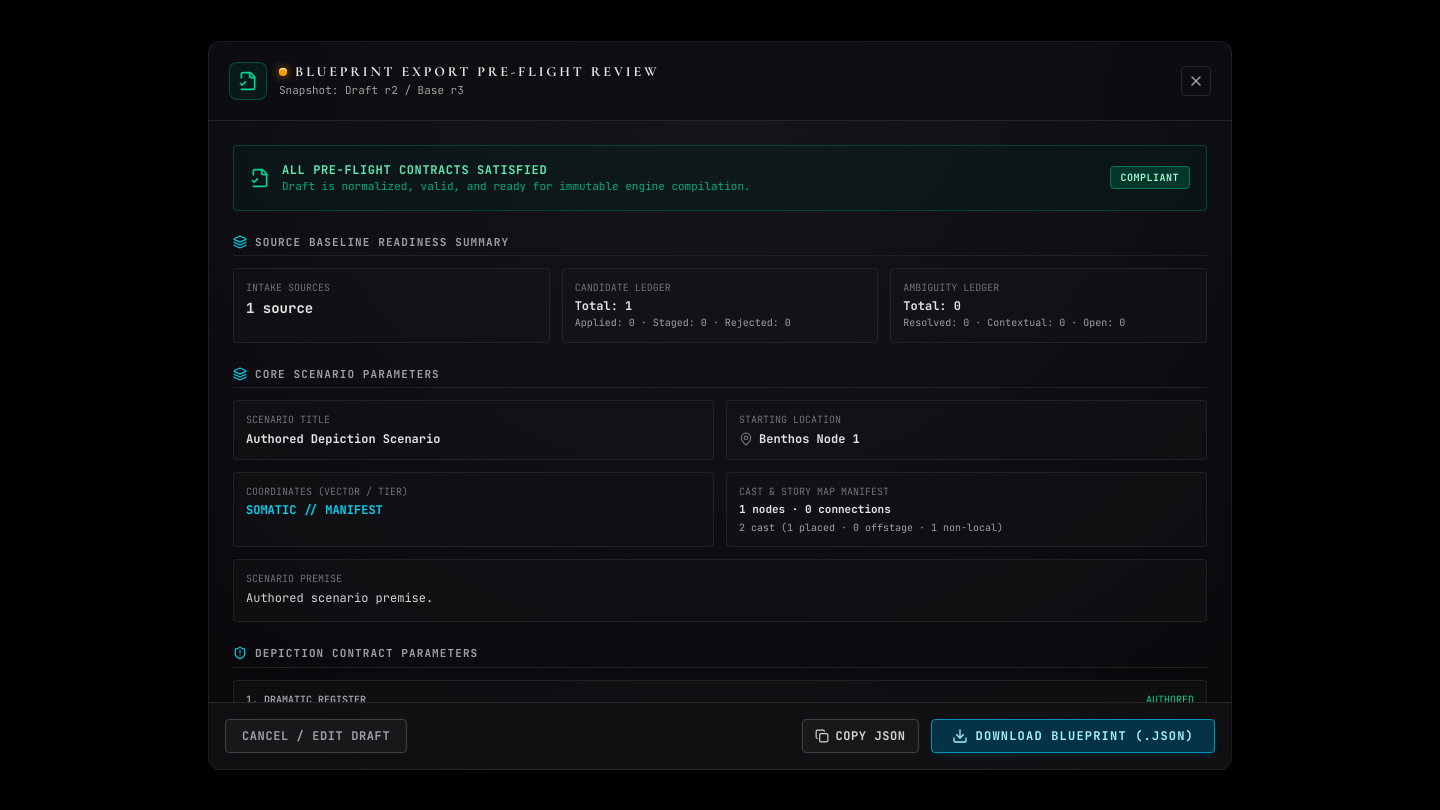
Test: ExportReviewModal Component Snapshot Lifecycle › preserves authored depiction contract through export review, copy, and download when conflicting source baseline is imported
The width and height of the screenshot is (1440, 810).
Check: the button with id "export-review-download-btn" is enabled, box x1=931 y1=718 x2=1215 y2=752
Click the button with id "export-review-copy-json-btn": (860, 736) x1=802 y1=718 x2=919 y2=752
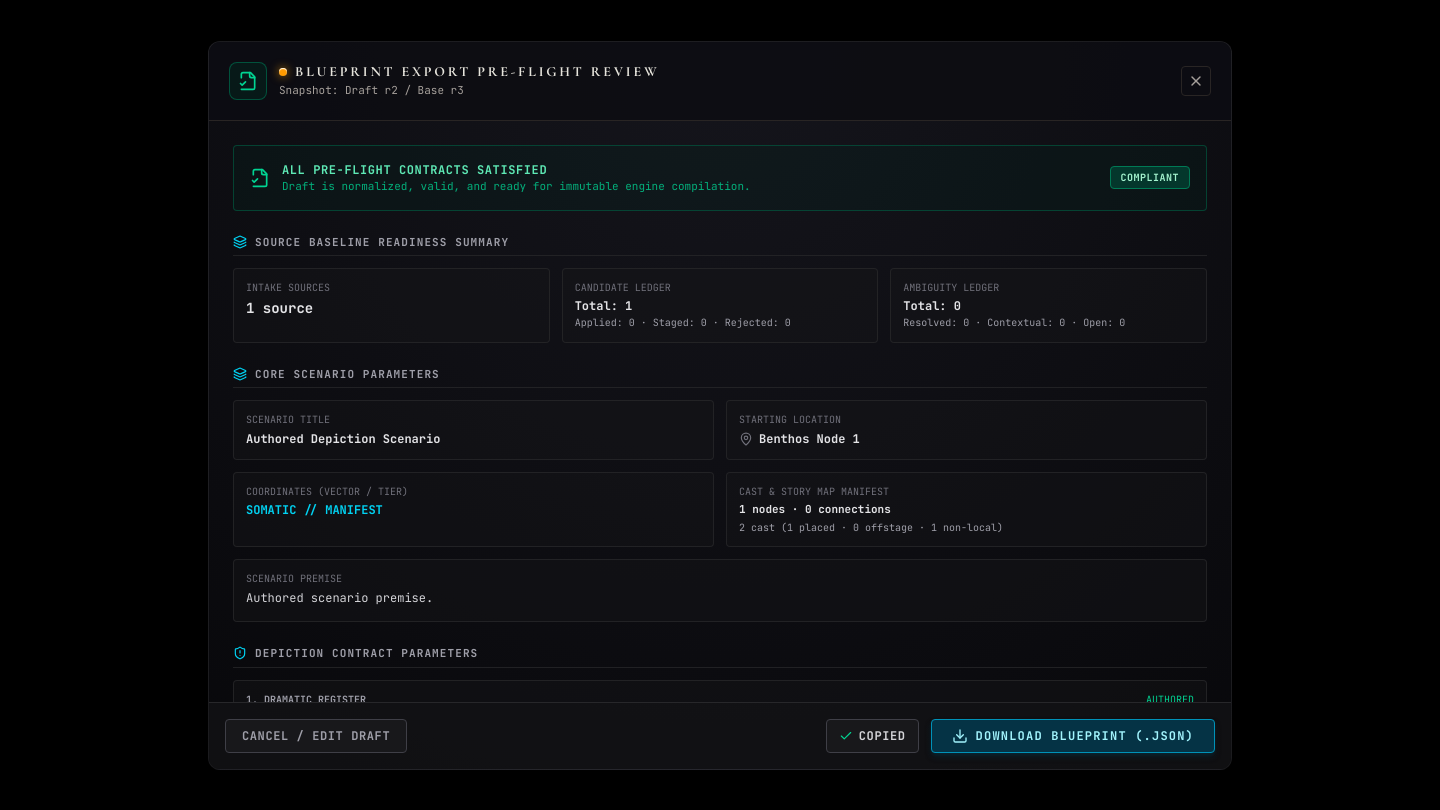
Click the button with id "export-review-download-btn": (1073, 736) x1=931 y1=718 x2=1215 y2=752
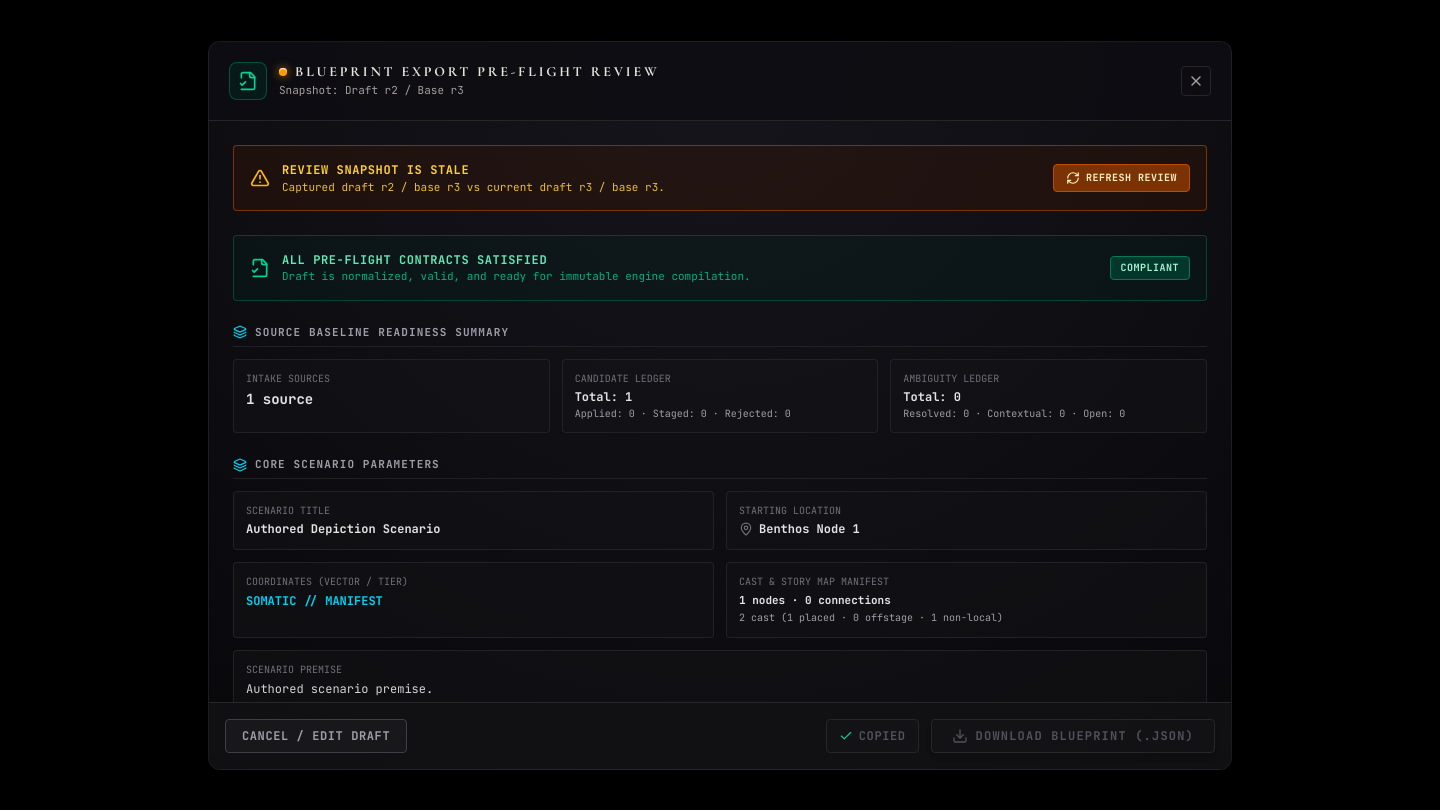
Check: the element with id "export-review-stale-notice" is shown, box x1=233 y1=144 x2=1207 y2=211
Check: the element with id "export-review-stale-notice" shows "Review Snapshot Is Stale", box x1=282 y1=162 x2=469 y2=178
Check: the button with id "export-review-copy-json-btn" is disabled, box x1=826 y1=718 x2=919 y2=752
